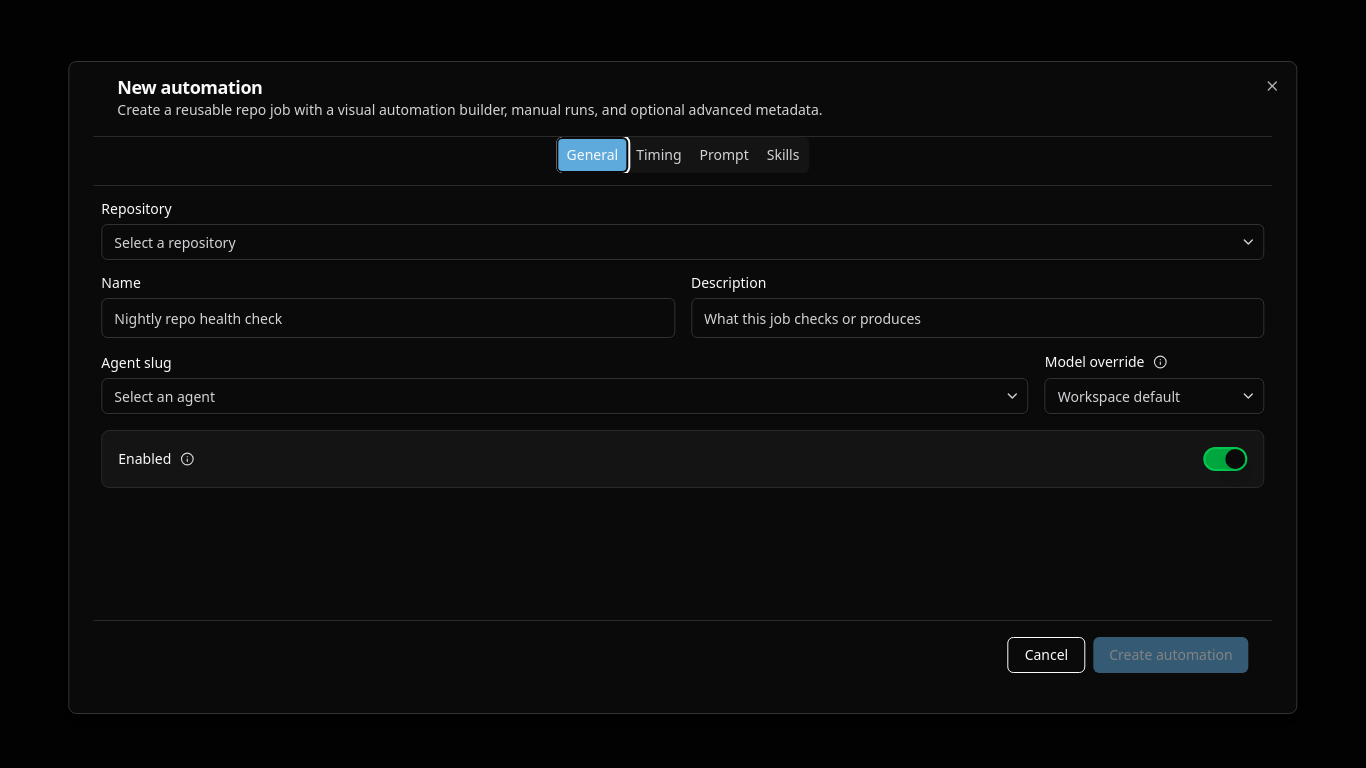
Test: automationJobDialog — assistant create guard › renders General Chat as the first repository option
# Open the repo combobox by clicking the chevron/input
Click the field with placeholder "Select a repository" at (683,242), box [101,224,1265,260]
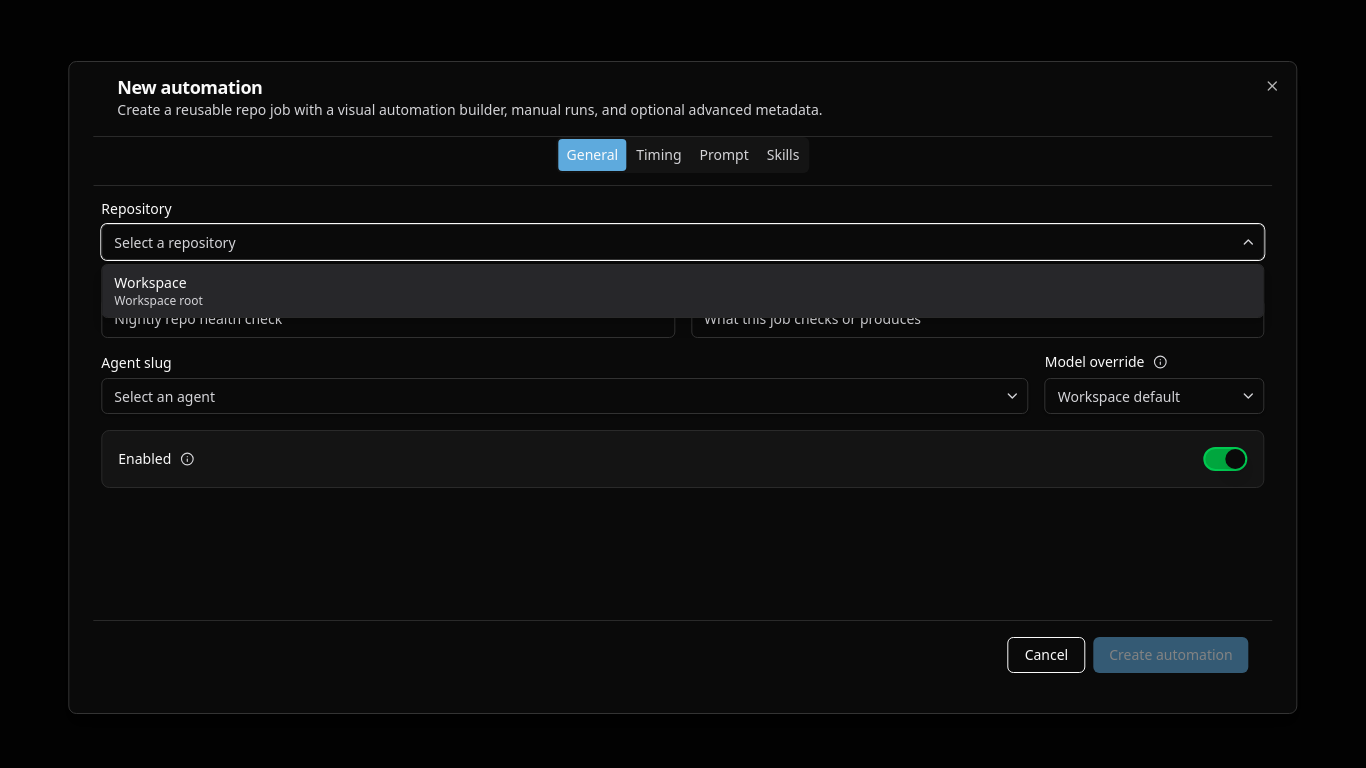
Check: the text "Workspace" is shown, box [114,273,187,292]
Check: the text "Workspace root" is shown, box [114,292,203,309]
